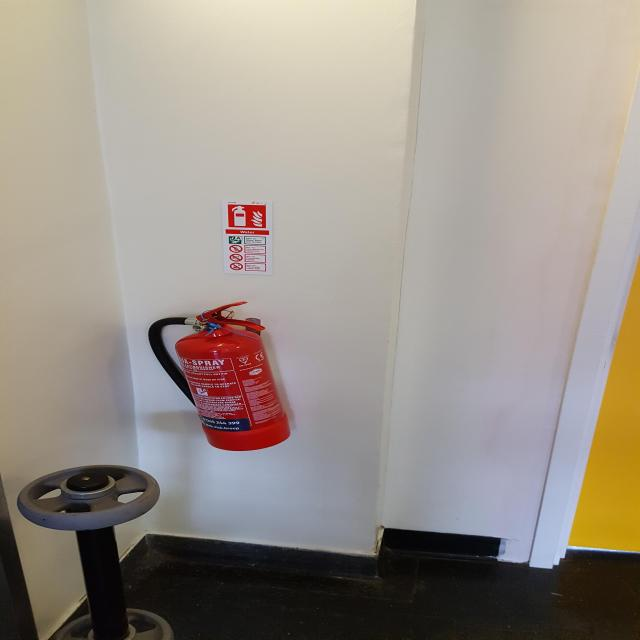fire_extinguisher: (144, 299, 296, 454)
